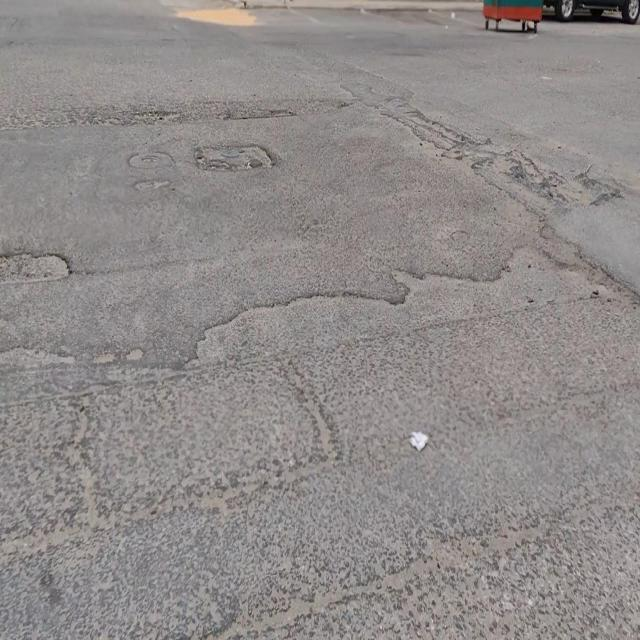Potholes: (1, 245, 72, 286), (194, 140, 276, 172)
